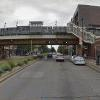Bridge: (3, 19, 82, 52)
